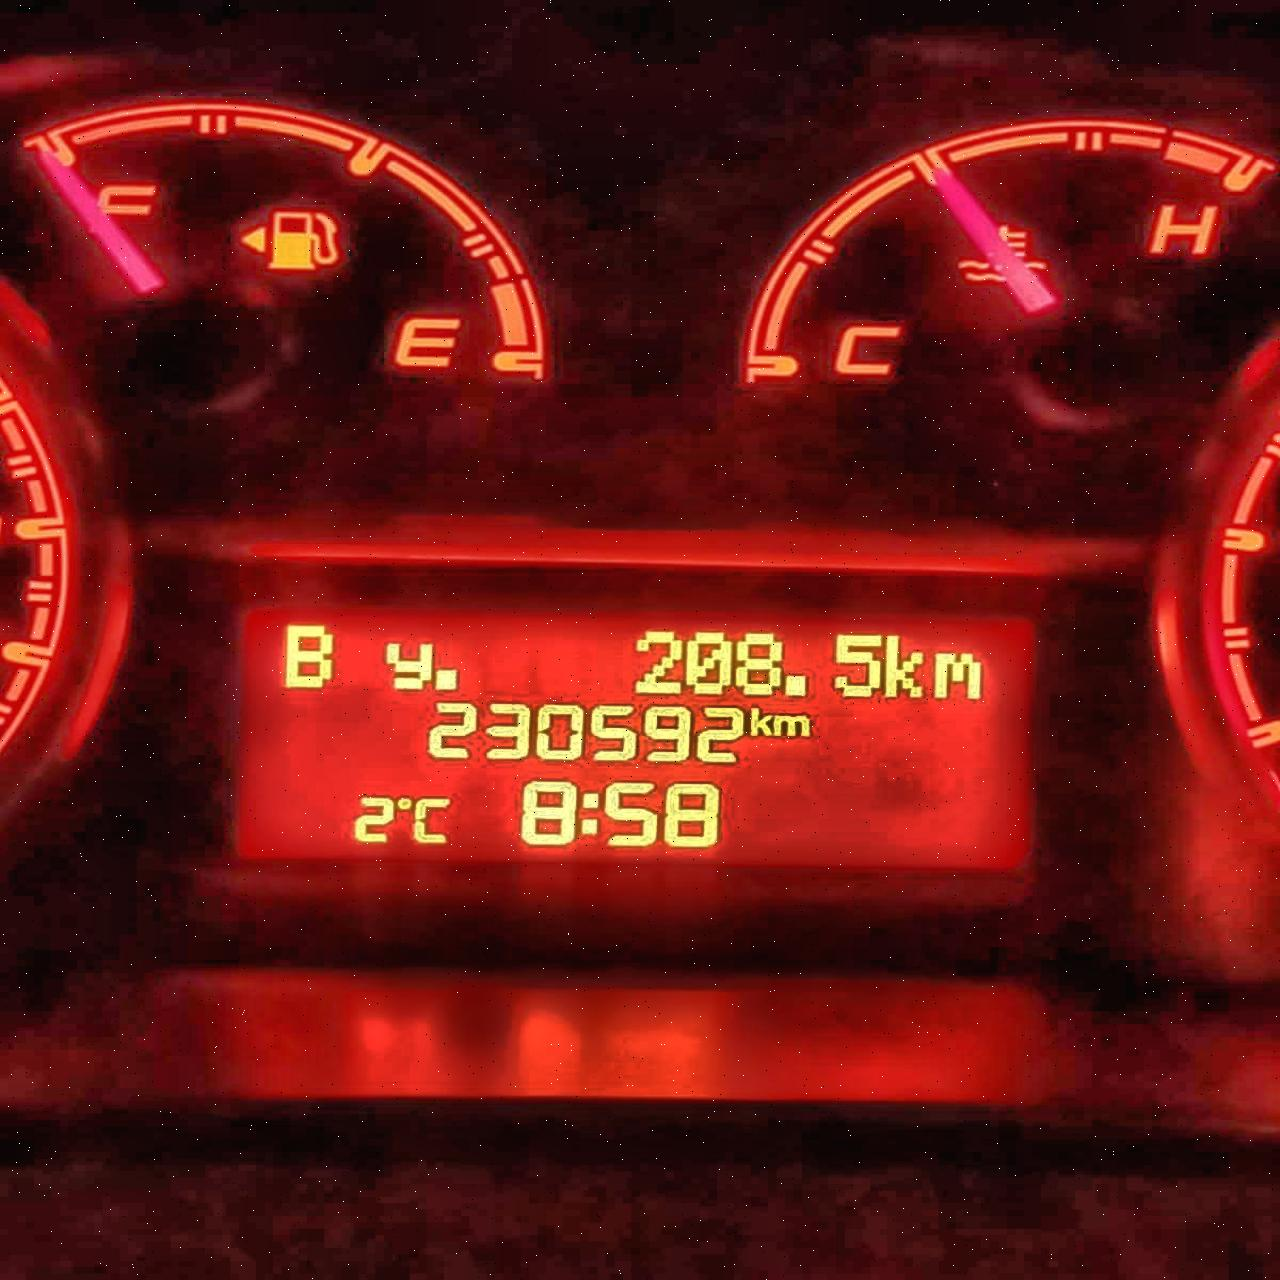-: (430, 667, 461, 692), (782, 673, 808, 697)
0: (681, 629, 734, 697), (533, 701, 586, 763)
2: (632, 628, 683, 694), (423, 700, 478, 761), (693, 704, 745, 764), (350, 795, 396, 844)
3: (483, 701, 532, 761)
5: (601, 779, 659, 849), (832, 632, 883, 700), (588, 702, 639, 763)
8: (661, 779, 722, 847), (517, 779, 578, 847), (733, 629, 783, 696)
9: (640, 703, 694, 764)
X: (280, 620, 338, 694), (381, 639, 434, 692), (884, 633, 925, 700), (931, 651, 985, 700), (411, 796, 454, 846), (579, 790, 602, 838), (772, 712, 811, 738), (747, 706, 772, 737)
odometer: (218, 593, 1047, 881)
